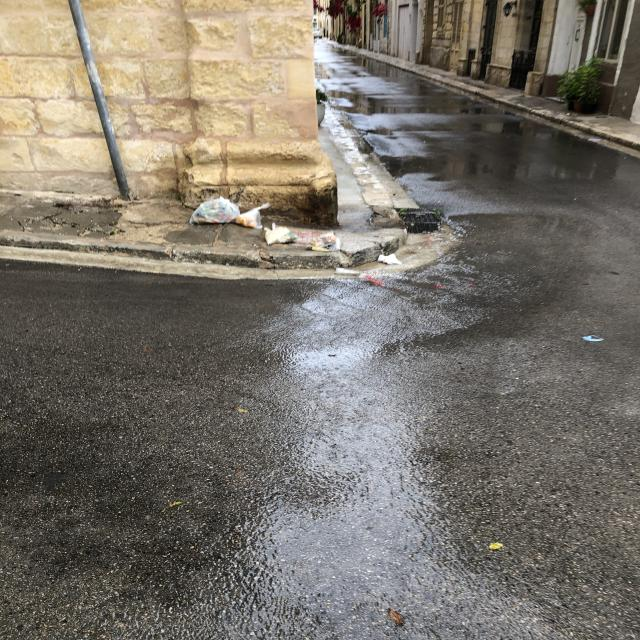Organic Waste -White Bag-: (185, 195, 245, 229), (236, 202, 273, 232), (306, 232, 343, 255), (265, 226, 298, 247)
Other: (386, 606, 406, 628), (379, 251, 404, 267), (335, 266, 363, 279), (582, 334, 607, 346), (489, 541, 504, 553), (587, 137, 606, 145)
